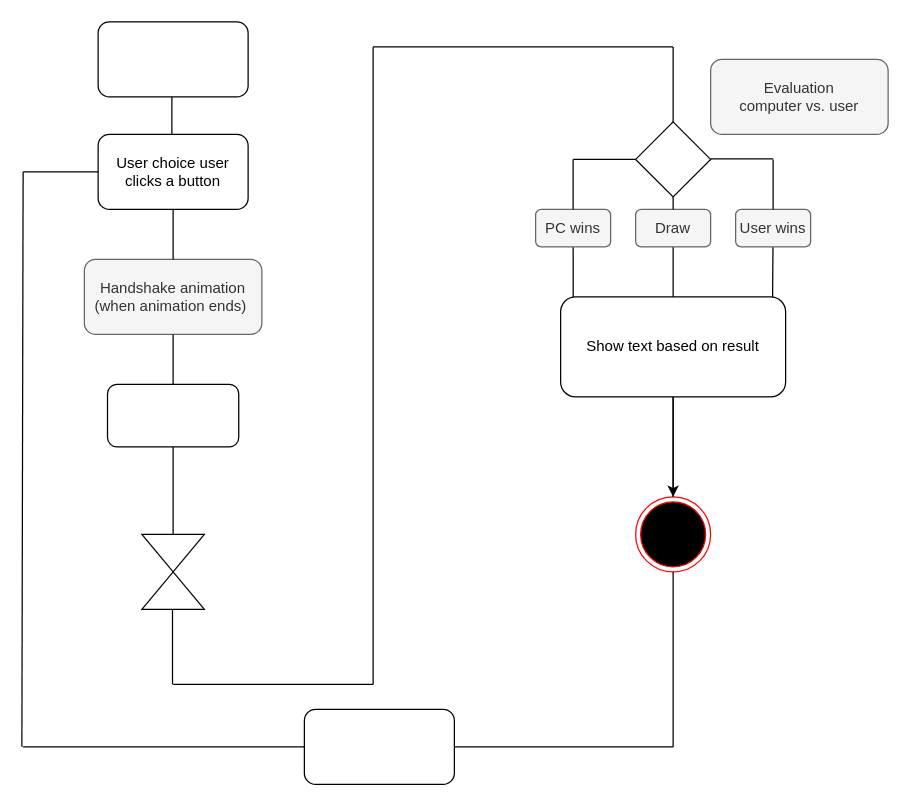
This 910x806 diagram has some shape labels left out. Each missing label, with the centre of its shape:
"Computer random choice" belongs at [172,415].
"Initiation - eventlistener setting up the interface" belongs at [172,59].
"Play again" belongs at [378,746].
